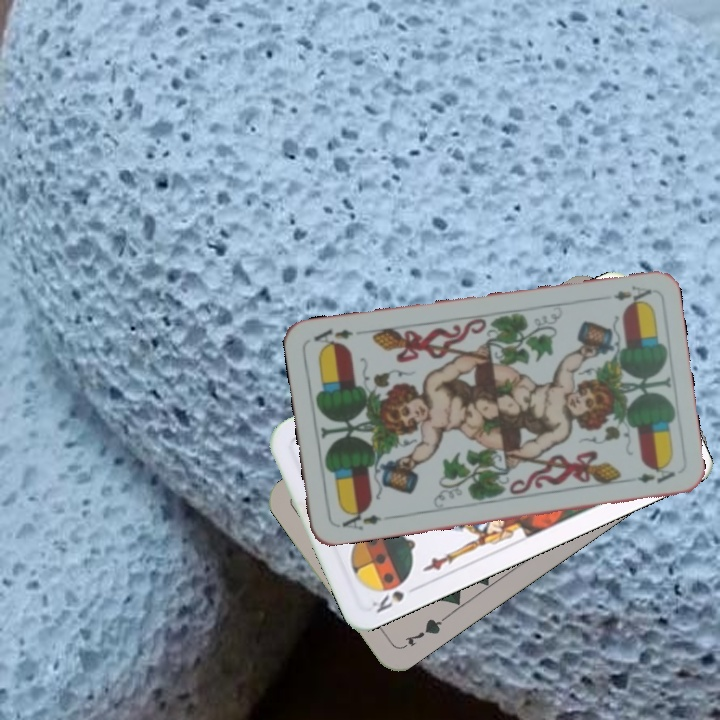EA: (595, 281, 654, 308), (338, 505, 393, 533)
G7: (396, 613, 449, 652)
SK: (367, 586, 407, 616)
